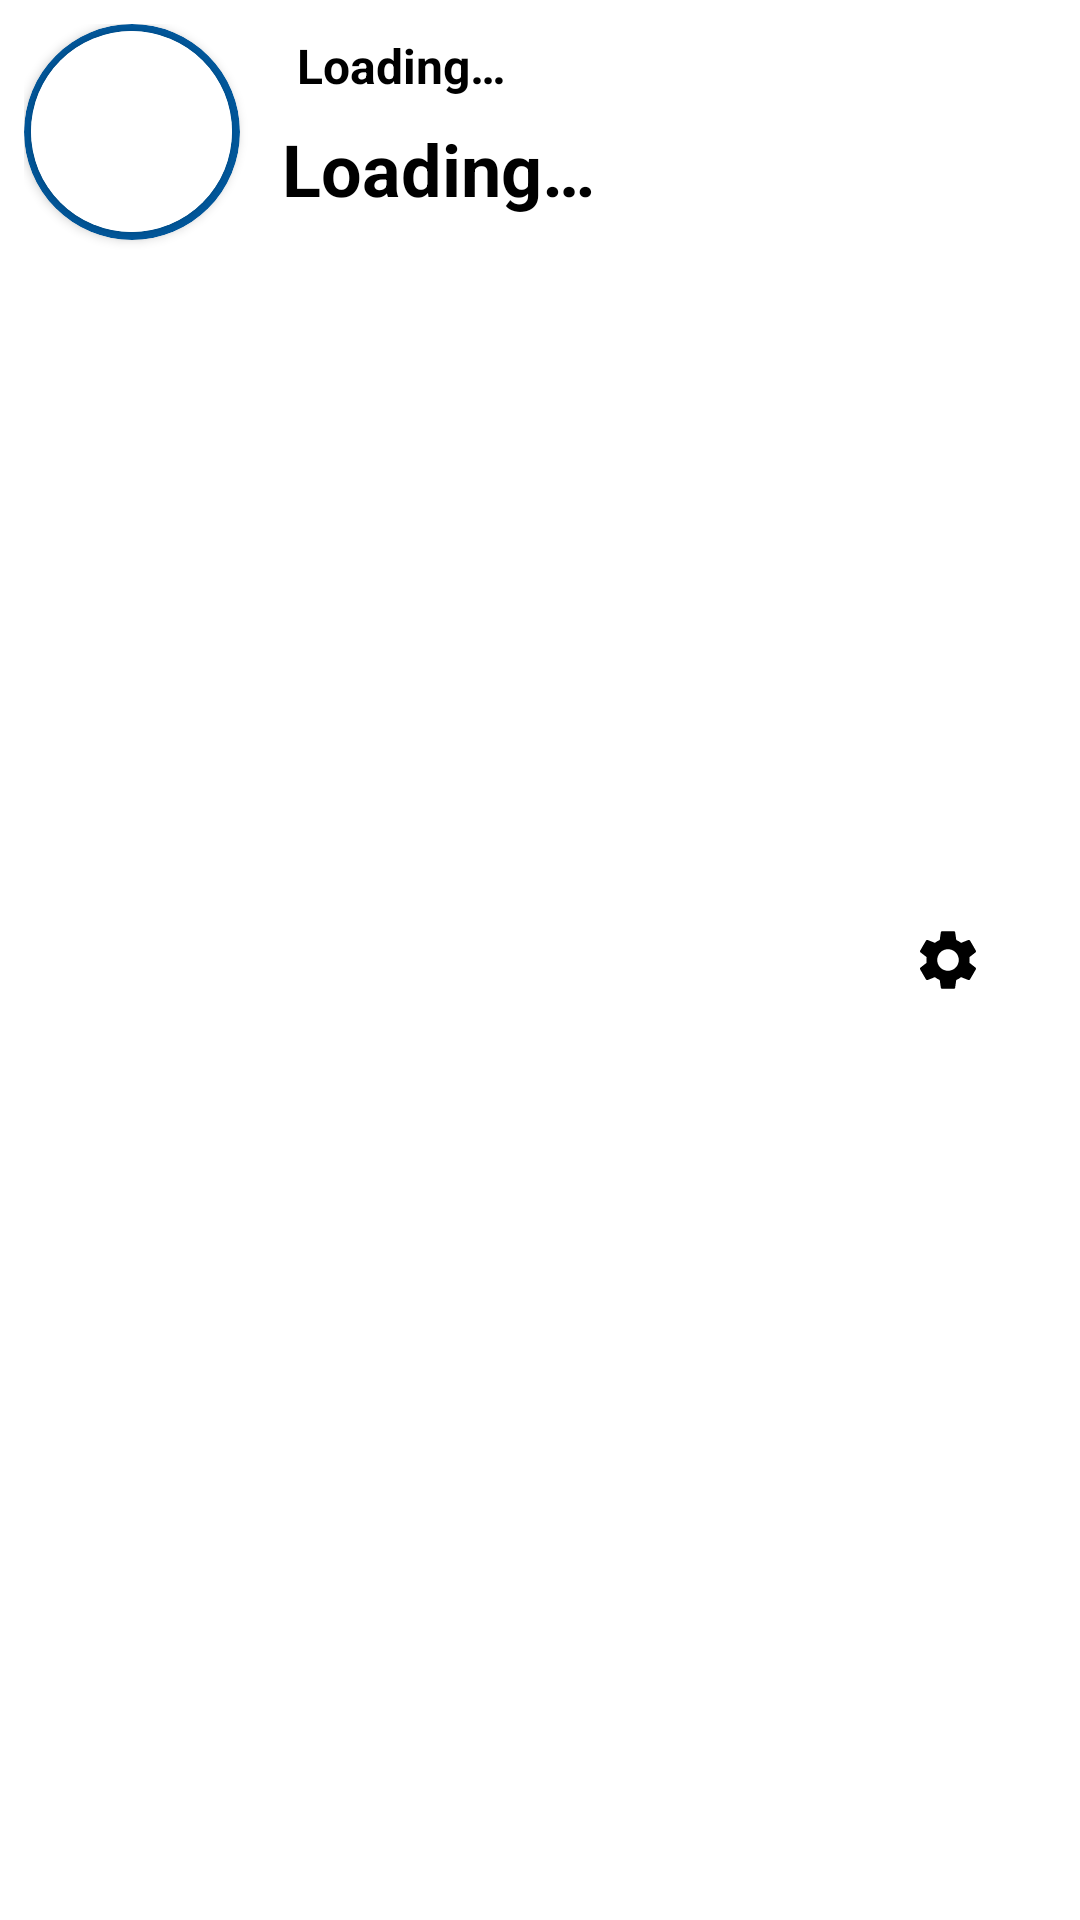

Named icons in this screenshot (1080 × 1920) and their centers, point (x, y):
Settings: point (948, 960)
